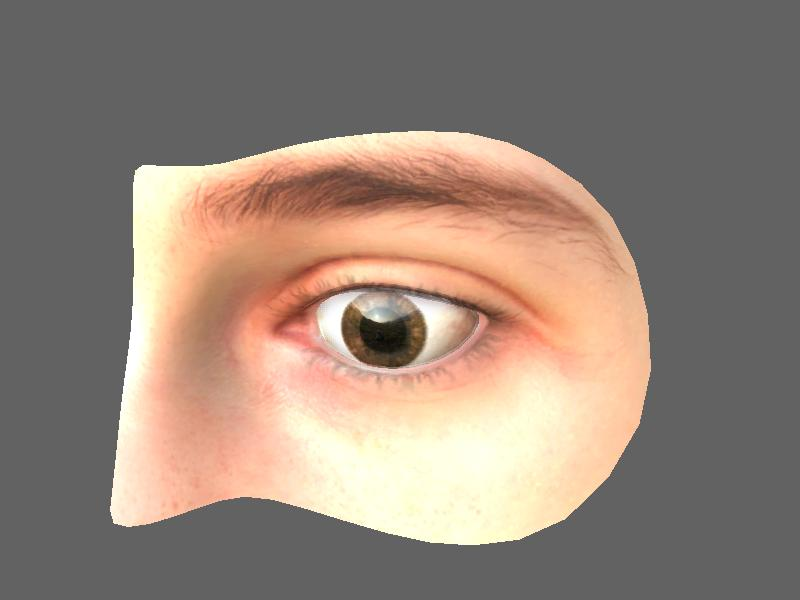iris: (337, 285, 430, 368)
